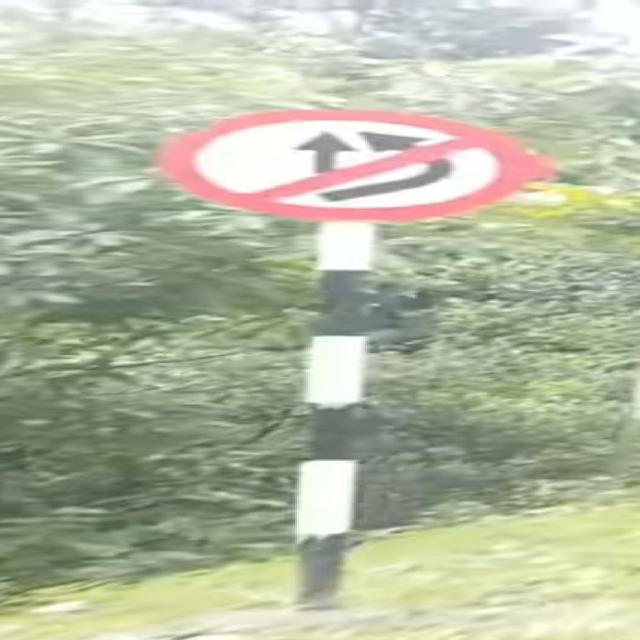No_overtaking: (149, 96, 565, 246)
